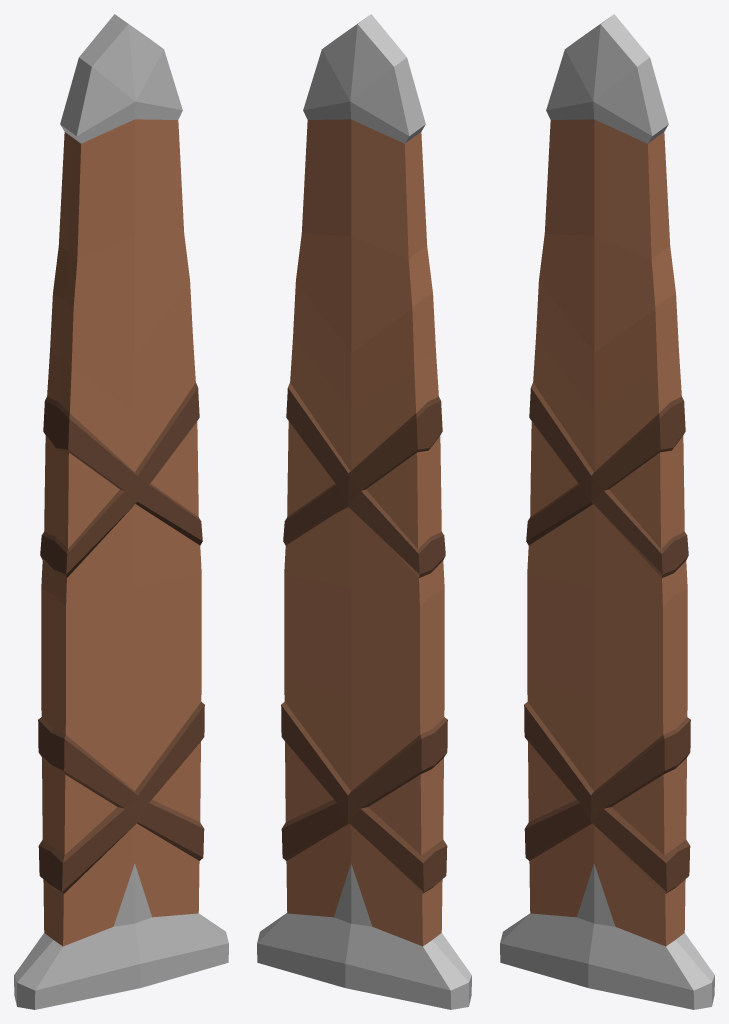
The model's file is SwordScabbardEmpty.fbx.
3 views of the same model, side by side, from view 1: azimuth 30°, elevation 25°; view 2: azimuth 150°, elevation 25°; view 3: azimuth 330°, elevation 25° (orthographic).
Visible parts, largest first — view 1: SwordScabbardEmpty; view 2: SwordScabbardEmpty; view 3: SwordScabbardEmpty.
Part boxes in pixels (x1,y1,x2,y2): SwordScabbardEmpty: [14, 14, 228, 1009]; SwordScabbardEmpty: [257, 14, 471, 1009]; SwordScabbardEmpty: [500, 14, 714, 1009].
Size of the model in its own units: 13.72 by 60.41 by 4.32.
Materials: 1 (1 with a texture image).
